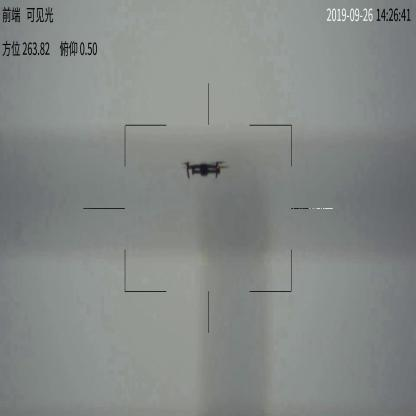uav: (179, 158, 230, 184)
